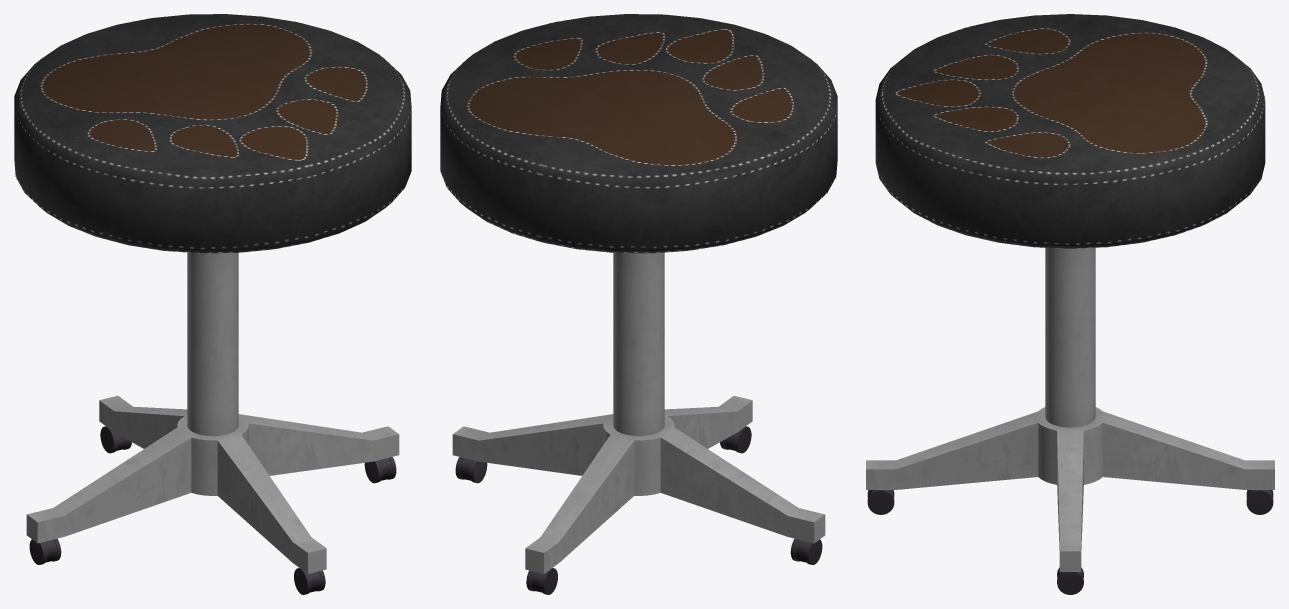
File: Stool_lp.fbx
3 renders of one model, left to right at view 1: azimuth 30°, elevation 25°; view 2: azimuth 150°, elevation 25°; view 3: azimuth 270°, elevation 25°, orthographic. The views are drawn at different scales.
Visible parts, largest first — view 1: Stool_lp.001; view 2: Stool_lp.001; view 3: Stool_lp.001.
Part boxes in pixels (left/top/right/bottom): Stool_lp.001: left=14, top=14, right=411, bottom=594; Stool_lp.001: left=440, top=14, right=837, bottom=594; Stool_lp.001: left=866, top=14, right=1274, bottom=594.
Size of the model in its own units: 43.14 by 48.6 by 43.14.
